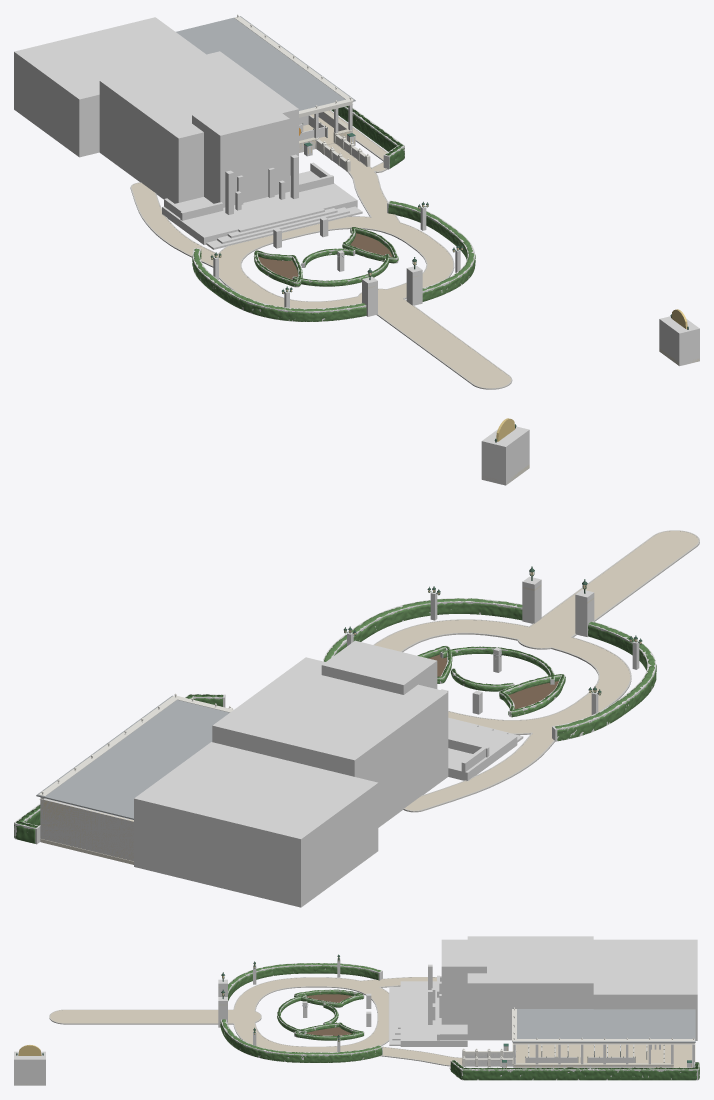
Rendered from VV_Omgeving.fbx.
3 renders of one model, top to bottom at view 1: azimuth 30°, elevation 25°; view 2: azimuth 150°, elevation 25°; view 3: azimuth 270°, elevation 25°, orthographic. The views are drawn at different scales.
Visible parts, largest first — view 1: COLL_6, static__MAT_grind_0, COLL_7, COLL_5, static__MAT_zink_0, COLL_0, static__MAT_beuk_0, static__MAT_band_0, static__MAT_wit_0, static__MAT_beuk_1, COLL_299, static__MAT_buxus_0 (+6 smaller); view 2: COLL_7, COLL_6, static__MAT_grind_0, static__MAT_zink_0, COLL_5, COLL_303, static__MAT_beuk_1, static__MAT_beuk_0, static__MAT_band_0, COLL_299, COLL_0, static__MAT_buxus_0 (+6 smaller); view 3: COLL_6, static__MAT_grind_0, COLL_7, static__MAT_zink_0, COLL_5, COLL_0, static__MAT_haag_0, static__MAT_beuk_1, static__MAT_wit_0, static__MAT_band_0, static__MAT_beuk_0, static__MAT_buxus_0 (+13 smaller).
Boxes of the visible parts, left/top/right/bottom form: COLL_6: left=99, top=51, right=298, bottom=203; static__MAT_grind_0: left=131, top=110, right=510, bottom=388; COLL_7: left=14, top=17, right=205, bottom=157; COLL_5: left=192, top=98, right=289, bottom=207; static__MAT_zink_0: left=176, top=16, right=355, bottom=257; COLL_0: left=162, top=171, right=357, bottom=244; static__MAT_beuk_0: left=192, top=248, right=366, bottom=321; static__MAT_band_0: left=130, top=110, right=512, bottom=389; static__MAT_wit_0: left=234, top=14, right=370, bottom=172; static__MAT_beuk_1: left=388, top=201, right=475, bottom=301; COLL_299: left=659, top=316, right=699, bottom=366; static__MAT_buxus_0: left=254, top=227, right=398, bottom=286; COLL_7: left=134, top=742, right=378, bottom=907; COLL_6: left=212, top=657, right=448, bottom=827; static__MAT_grind_0: left=375, top=531, right=698, bottom=810; static__MAT_zink_0: left=36, top=651, right=501, bottom=819; COLL_5: left=321, top=640, right=437, bottom=694; COLL_303: left=41, top=798, right=133, bottom=861; static__MAT_beuk_1: left=324, top=598, right=555, bottom=727; static__MAT_beuk_0: left=555, top=622, right=656, bottom=740; static__MAT_band_0: left=373, top=530, right=699, bottom=812; COLL_299: left=481, top=426, right=529, bottom=485; COLL_0: left=448, top=720, right=517, bottom=780; static__MAT_buxus_0: left=417, top=646, right=565, bottom=717; COLL_6: left=467, top=936, right=593, bottom=1040; static__MAT_grind_0: left=50, top=977, right=691, bottom=1067; COLL_7: left=593, top=939, right=697, bottom=1040; static__MAT_zink_0: left=302, top=1003, right=695, bottom=1042; COLL_5: left=441, top=939, right=486, bottom=1024; COLL_0: left=400, top=981, right=467, bottom=1046; static__MAT_haag_0: left=450, top=1060, right=631, bottom=1080; static__MAT_beuk_1: left=220, top=971, right=382, bottom=1062; static__MAT_wit_0: left=462, top=1007, right=694, bottom=1066; static__MAT_band_0: left=49, top=977, right=461, bottom=1077; static__MAT_beuk_0: left=228, top=963, right=380, bottom=1000; static__MAT_buxus_0: left=294, top=989, right=363, bottom=1040.
Size of the model in its own units: 33.07 by 10.7 by 83.62.
